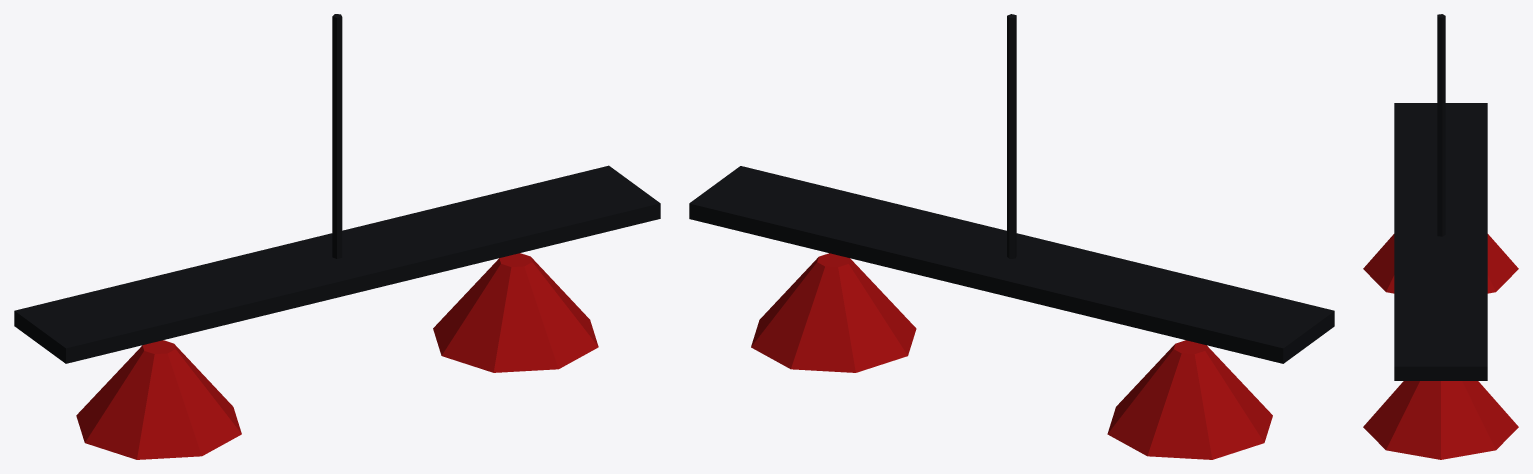
The model's file is pool_lamp.obj.
3 views of the same model, side by side, from view 1: azimuth 30°, elevation 25°; view 2: azimuth 150°, elevation 25°; view 3: azimuth 270°, elevation 25° (orthographic). The views are drawn at different scales.
Parts seen in each view (by area): view 1: pool_lamp; view 2: pool_lamp; view 3: pool_lamp.
Part boxes in pixels (bbox=[...]): pool_lamp: bbox=[14, 14, 660, 459]; pool_lamp: bbox=[689, 14, 1334, 459]; pool_lamp: bbox=[1363, 14, 1518, 459].
Size of the model in its own units: 2 by 1.17 by 0.5.
